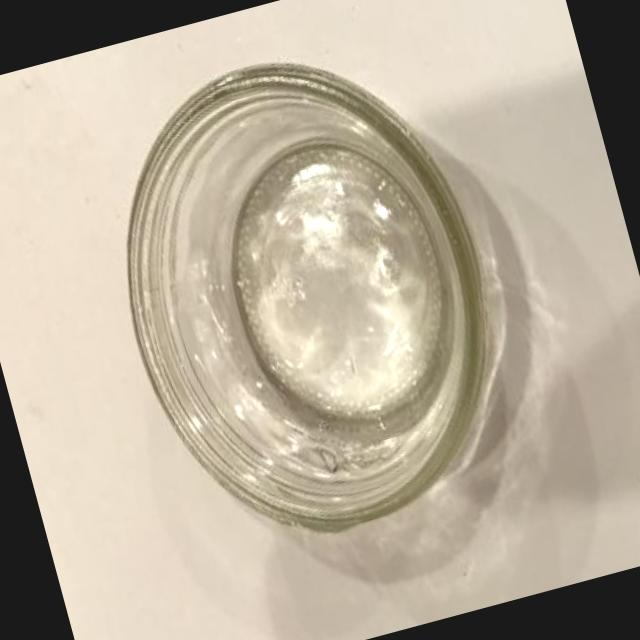chai_thuy_tinh: (127, 64, 490, 535)
